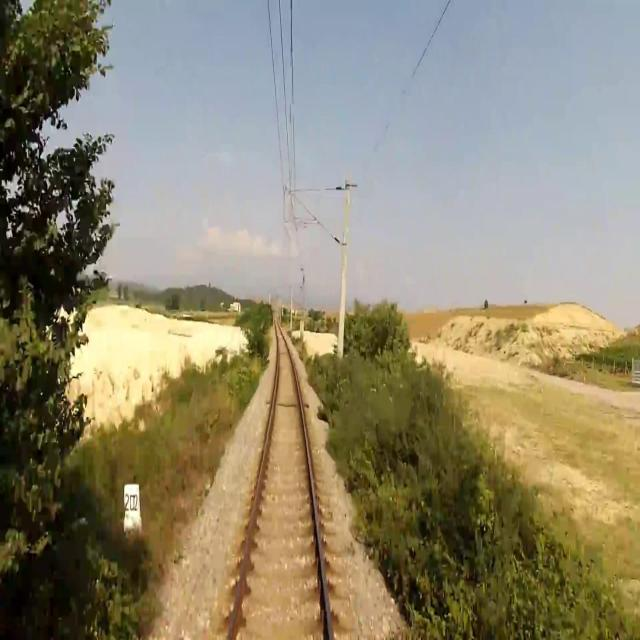rail-track: (232, 326, 329, 639)
